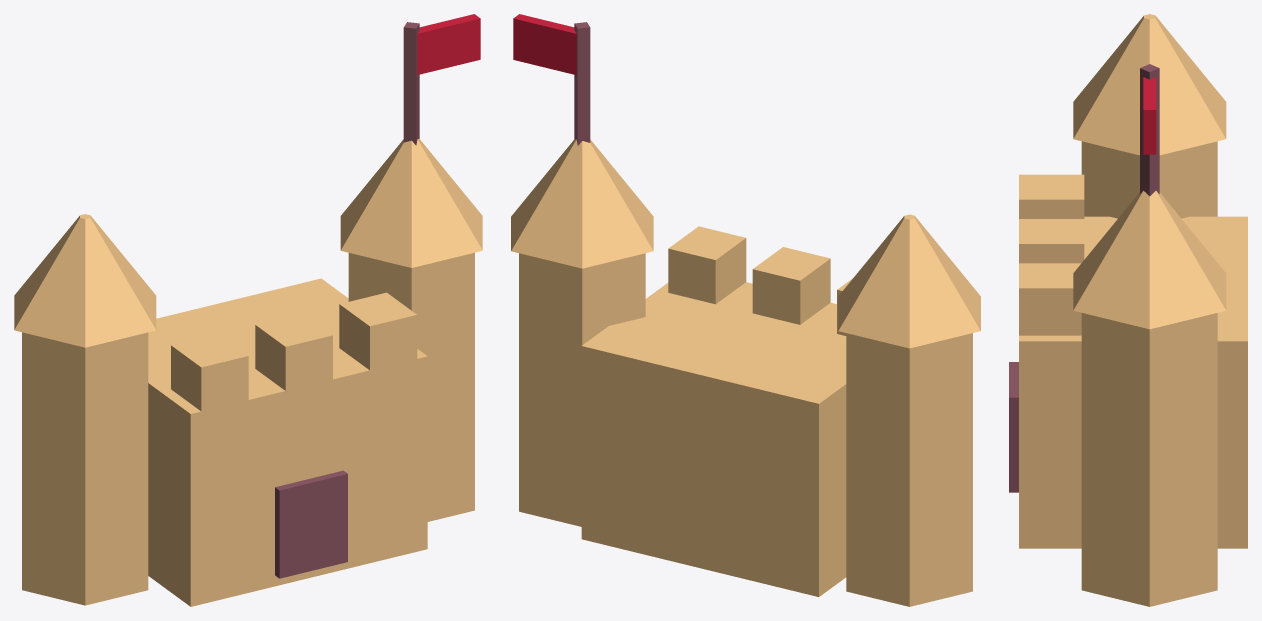
The model's file is castle.glb.
The picture shows the model from 3 angles, left to right: view 1: azimuth 30°, elevation 25°; view 2: azimuth 150°, elevation 25°; view 3: azimuth 270°, elevation 25°; orthographic projection. The views are drawn at different scales.
Parts seen in each view (by area): view 1: Keep, Tw0, Tw1, Tc0, Tc1, Door, C2, C0, C1, Flag, Mast; view 2: Keep, Tw0, Tw1, Tc0, Tc1, C2, C1, Flag, Mast; view 3: Tw1, Keep, Tc1, Tc0, Tw0, C2, C0, C1, Mast, Door, Flag.
Part boxes in pixels (x1,y1,x2,y2): Keep: [148, 278, 427, 606]; Tw0: [22, 332, 148, 605]; Tw1: [348, 252, 474, 521]; Tc0: [14, 214, 156, 347]; Tc1: [340, 139, 482, 267]; Door: [275, 470, 347, 578]; C2: [339, 292, 417, 370]; C0: [171, 333, 248, 411]; C1: [255, 313, 332, 390]; Flag: [417, 14, 480, 74]; Mast: [403, 22, 419, 145]; Keep: [581, 282, 846, 596]; Tw0: [846, 333, 972, 606]; Tw1: [519, 253, 645, 526]; Tc0: [838, 214, 980, 348]; Tc1: [511, 139, 653, 268]; C2: [668, 226, 746, 304]; C1: [752, 247, 830, 324]; Flag: [513, 14, 576, 75]; Mast: [574, 22, 590, 145]; Tw1: [1081, 313, 1217, 606]; Keep: [1019, 216, 1247, 548]; Tc1: [1073, 191, 1226, 329]; Tc0: [1073, 14, 1226, 155]; Tw0: [1081, 141, 1217, 218]; C2: [1019, 263, 1081, 335]; C0: [1019, 174, 1084, 218]; C1: [1019, 219, 1084, 263]; Mast: [1140, 64, 1159, 196]; Door: [1009, 362, 1018, 492]; Flag: [1143, 77, 1156, 154].
Size of the model in its own units: 1.78 by 1.7 by 0.73.
